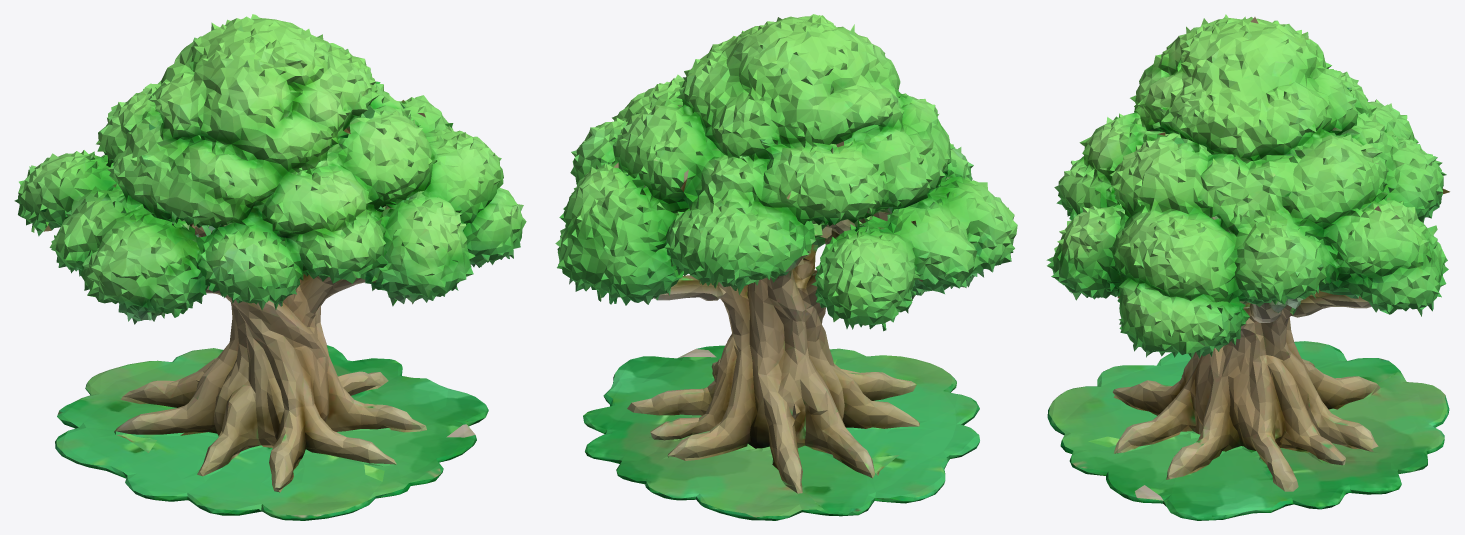
Rendered from giant_emerald_oak_tree.glb.
3 renders of one model, left to right at view 1: azimuth 30°, elevation 25°; view 2: azimuth 150°, elevation 25°; view 3: azimuth 270°, elevation 25°, orthographic. The views are drawn at different scales.
Visible parts, largest first — view 1: tmpkvd93n51.ply; view 2: tmpkvd93n51.ply; view 3: tmpkvd93n51.ply.
Boxes of the visible parts, box(x1,y1,x2,y2) form: tmpkvd93n51.ply: box(14, 14, 526, 520); tmpkvd93n51.ply: box(555, 14, 1017, 520); tmpkvd93n51.ply: box(1046, 14, 1449, 520).
Bounding box in the file's own units: 2 × 1.91 × 1.72.
1 material, 1 textured.
